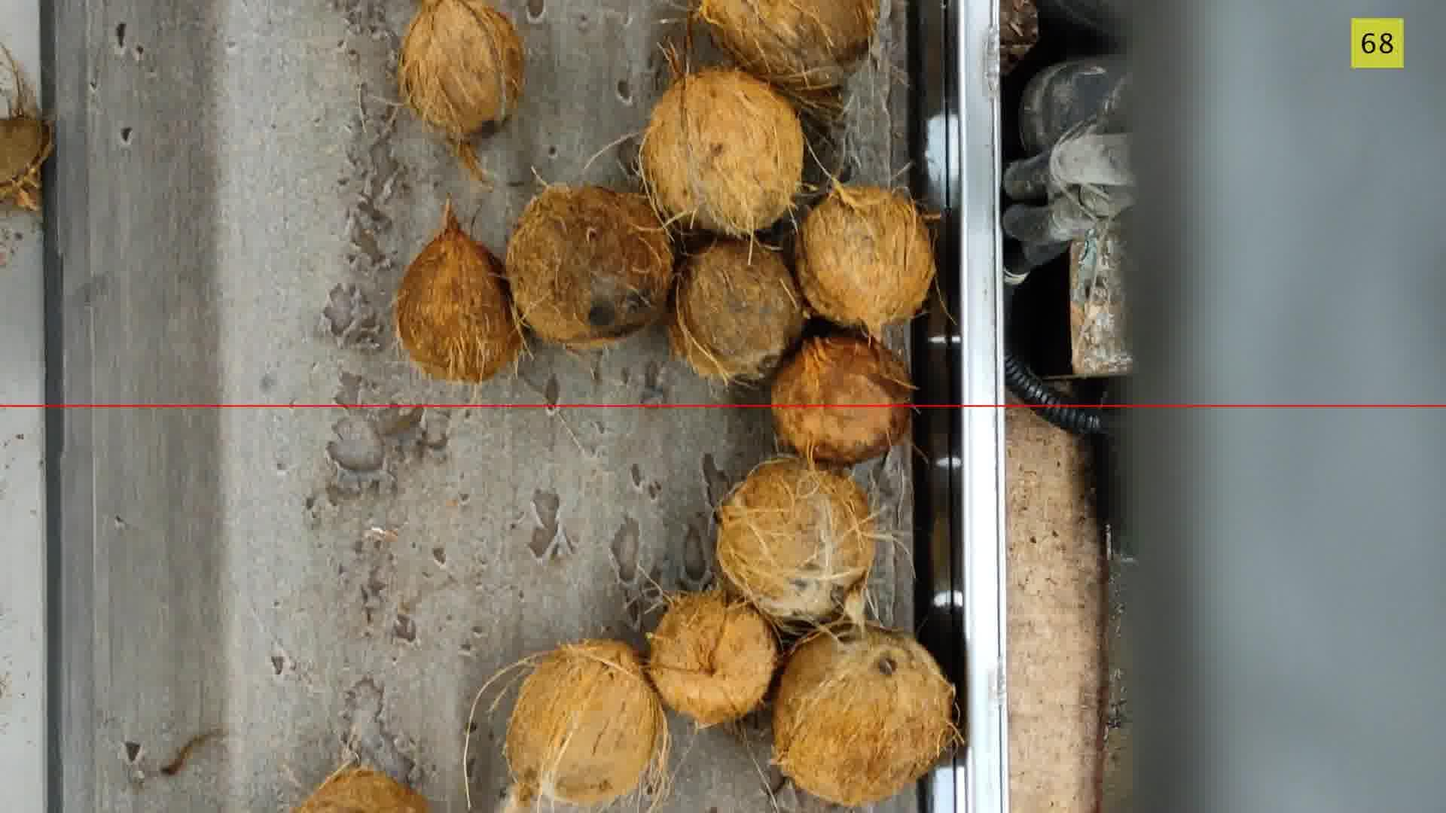Coconut: (773, 627, 958, 805), (715, 458, 878, 629), (639, 69, 805, 236), (506, 185, 674, 349), (504, 640, 667, 805), (795, 187, 935, 336), (669, 240, 807, 381), (395, 230, 523, 382), (772, 336, 912, 465), (398, 0, 524, 142), (648, 590, 778, 726), (697, 0, 878, 95), (0, 45, 53, 210), (294, 768, 428, 812)
